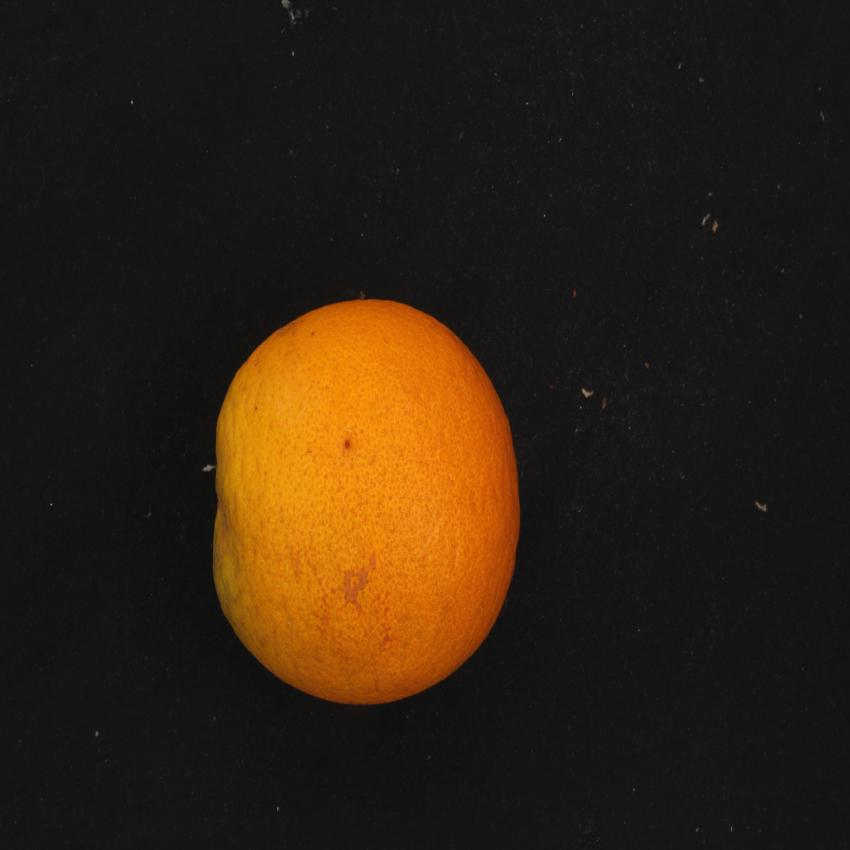Buen estado: (198, 284, 546, 726)
